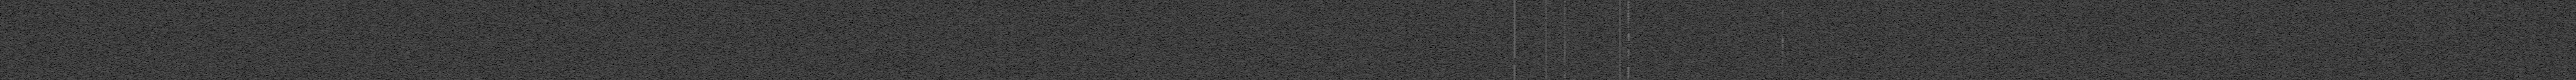wv_am: (1544, 0, 1548, 80)
wv_cw: (1618, 0, 1621, 80), (1513, 0, 1516, 57), (1513, 65, 1516, 80)
wv_lsb: (1626, 0, 1631, 60), (1626, 60, 1630, 80)
wv_usb: (1562, 0, 1567, 80), (1781, 51, 1784, 75), (1781, 36, 1784, 51), (1781, 8, 1784, 21), (1781, 21, 1784, 26), (1782, 77, 1784, 80), (1782, 28, 1784, 29), (1782, 2, 1784, 3)
